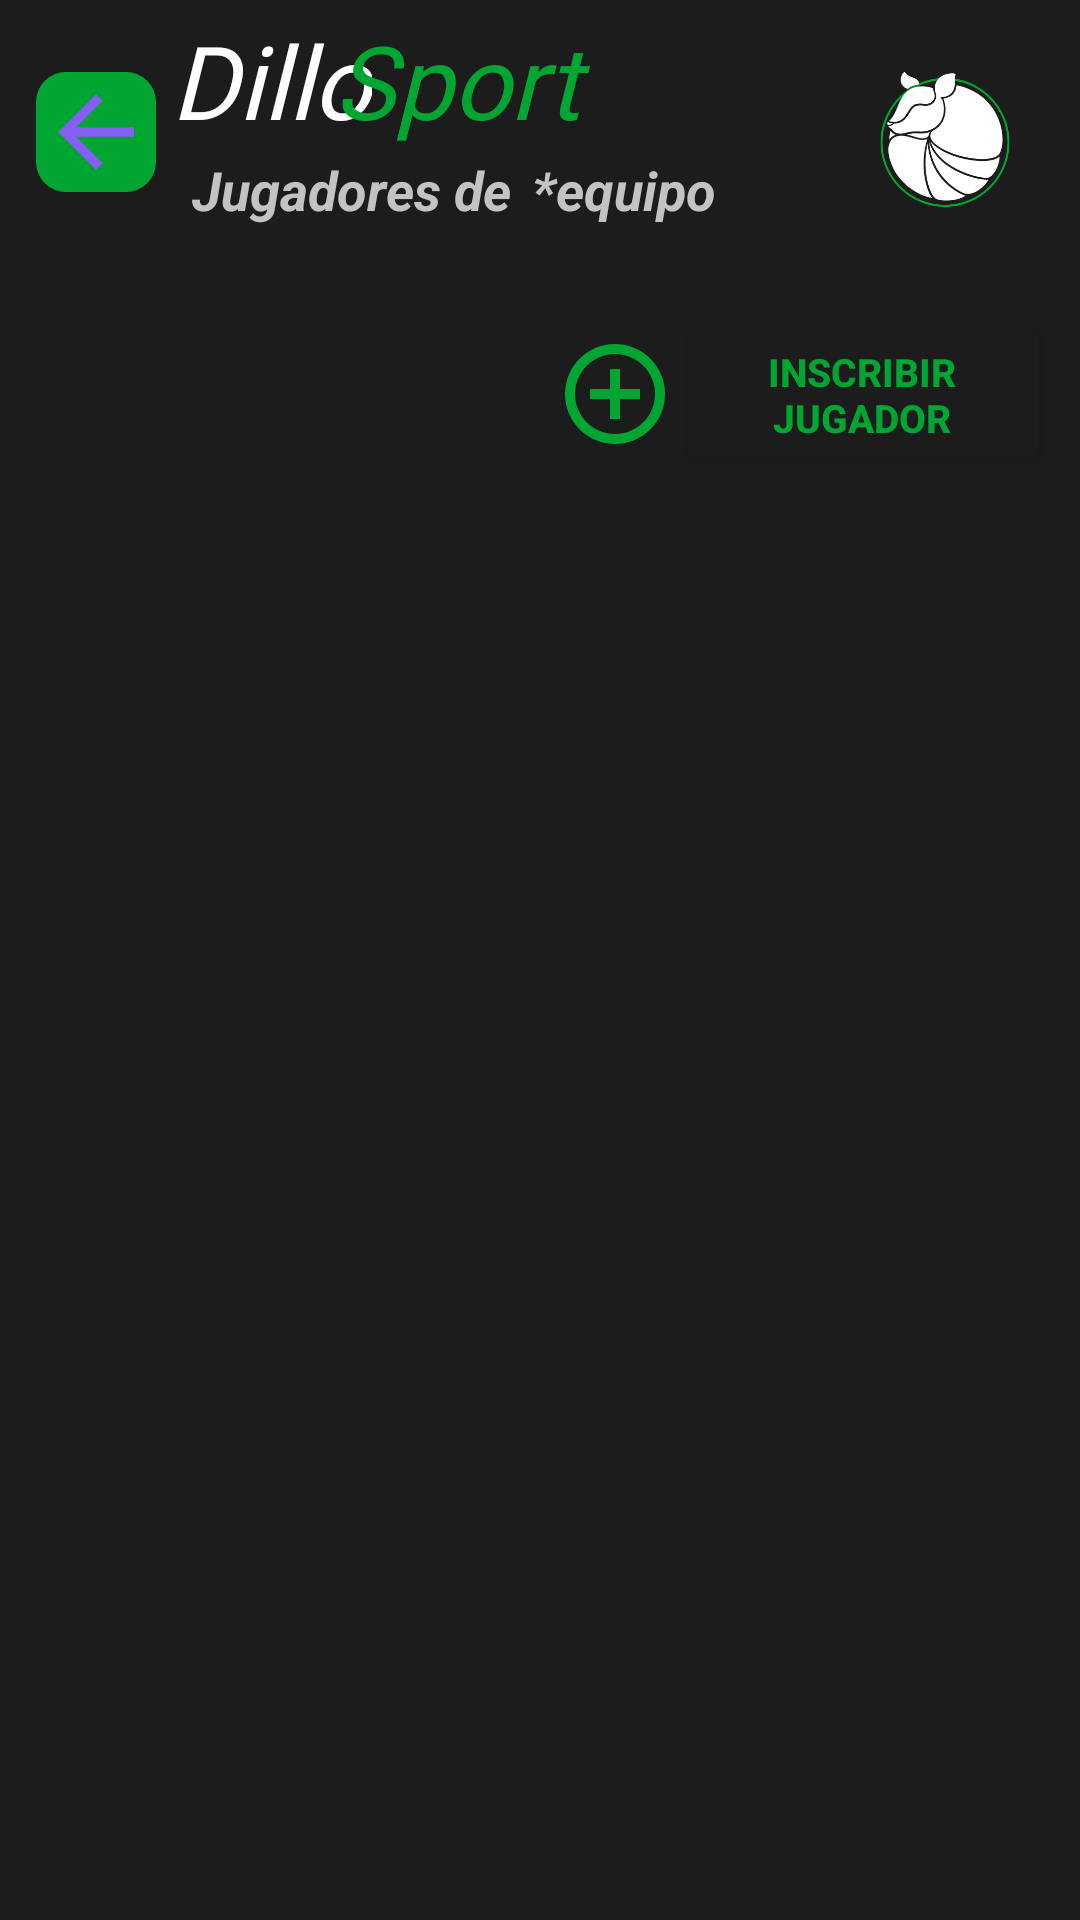

Where to tap for icons on this 1080w x 1920h app screen, as (x,y):
crear: (615,394)
dillo: (945,139)
